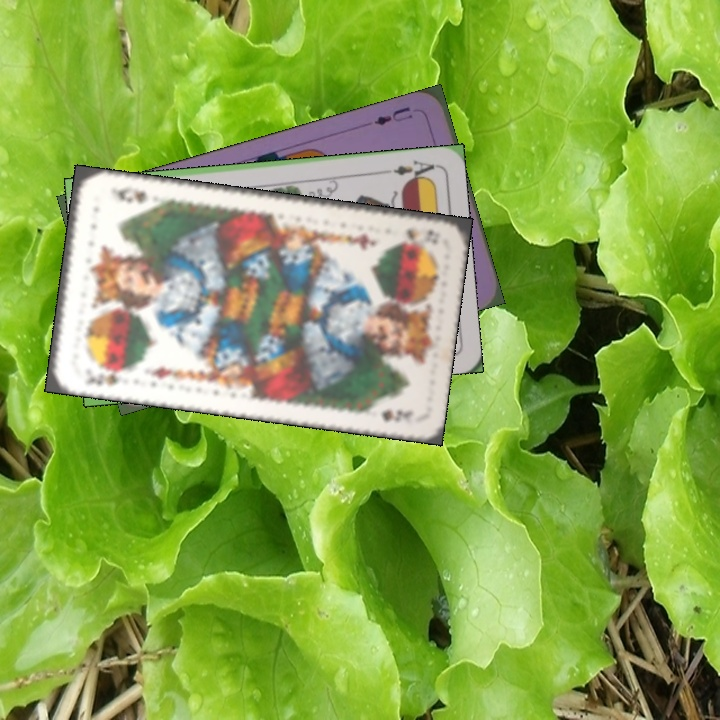EA: (380, 156, 437, 183)
EU: (370, 103, 416, 128)
SK: (81, 363, 132, 389), (402, 223, 444, 247)
